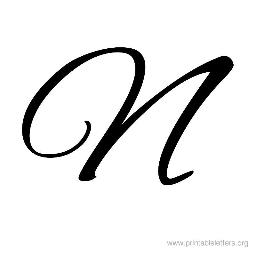n: (17, 39, 239, 193)
